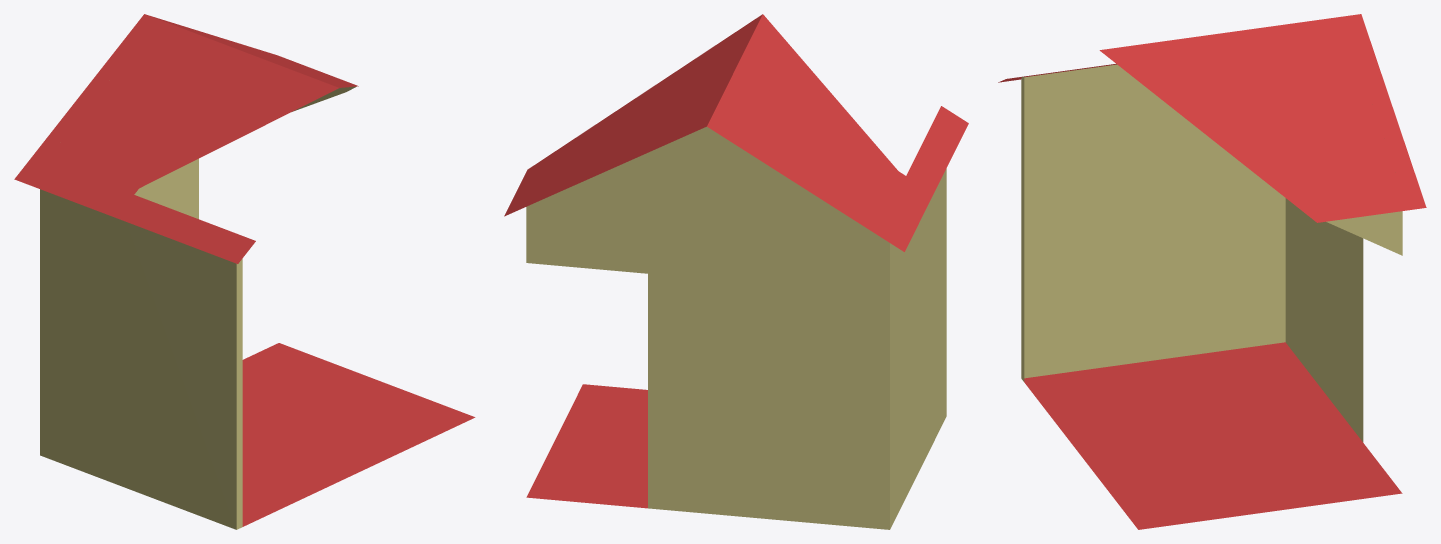
The picture shows the model from 3 angles, left to right: view 1: azimuth 30°, elevation 25°; view 2: azimuth 150°, elevation 25°; view 3: azimuth 270°, elevation 25°; orthographic projection. The views are drawn at different scales.
Bounding box in the file's own units: 12.24 × 11.22 × 11.55.
